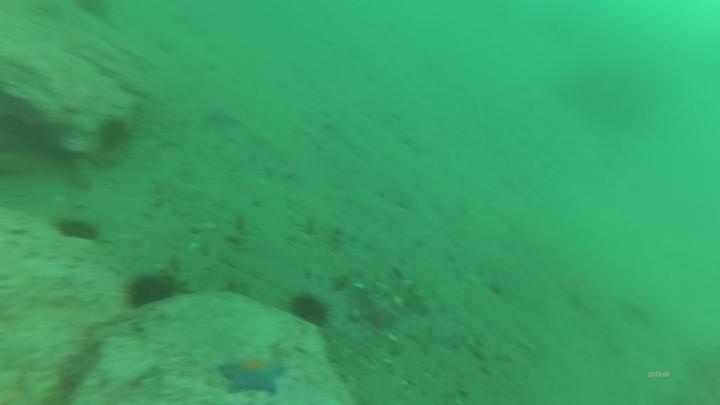echinus: (122, 270, 179, 312), (285, 290, 332, 330), (52, 214, 103, 246), (93, 115, 132, 153)
starfish: (214, 351, 289, 398)
